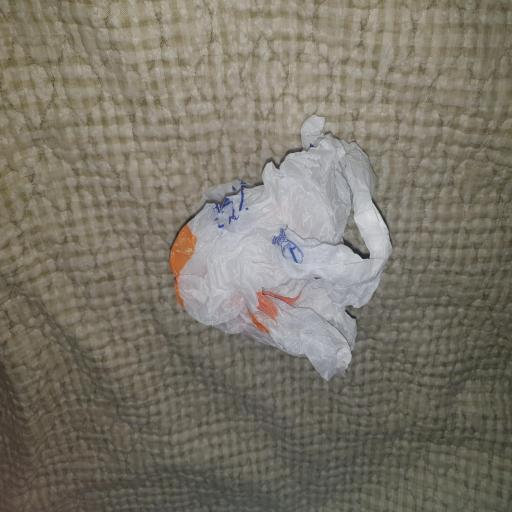plastic bag: (168, 112, 393, 381)
